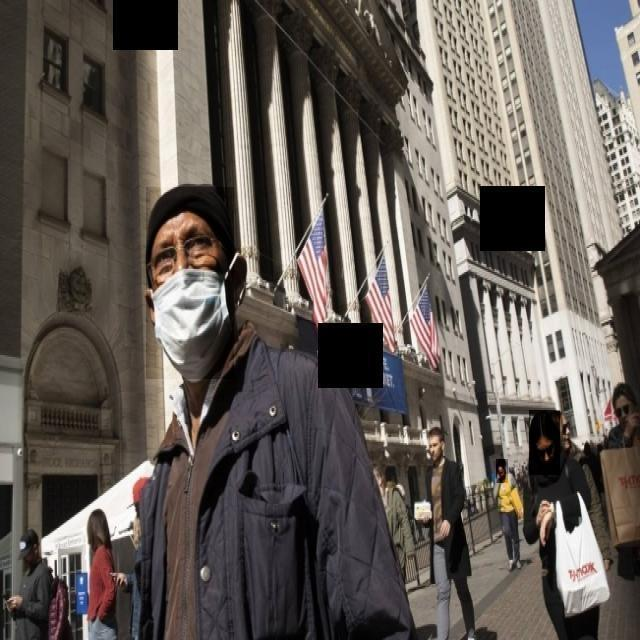hairnet: (146, 261, 234, 379)
no_hairnet: (530, 448, 561, 475), (429, 446, 445, 467), (496, 459, 508, 483)
